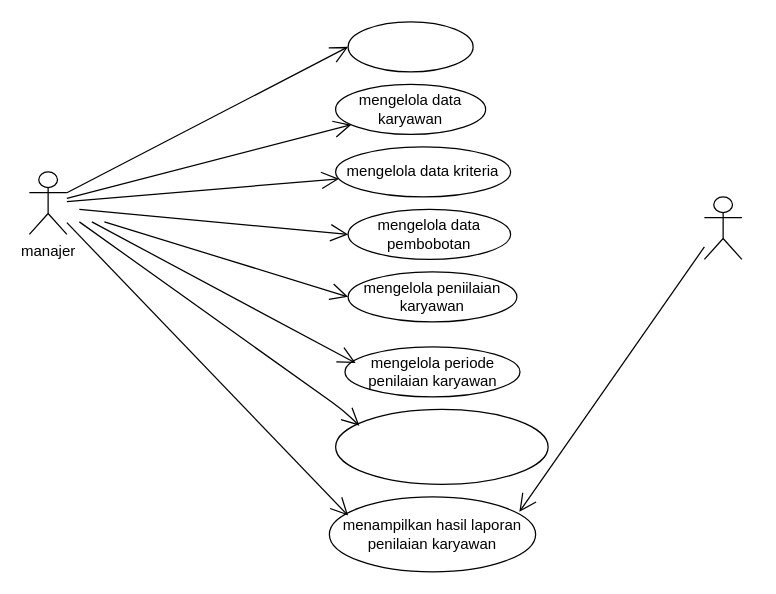
Some shapes in this 776 by 594 pixel diagram are drawn without their labels. The shapes that lost their labels are listed below. From the top down, each one's centre as x and y in pixels, then its label:
the point at 410,46: Login
the point at 722,227: karyawan
the point at 441,446: melakukan perhitungan karyawan dengan perangkingan
